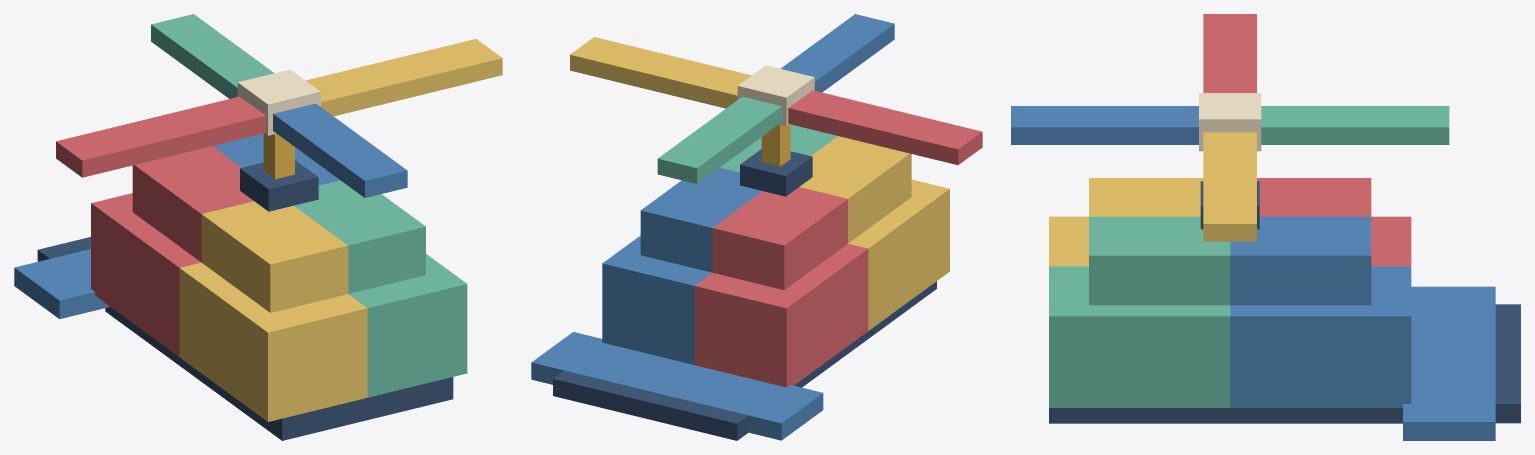
File: propeller_cap.glb
3 renders of one model, left to right at view 1: azimuth 30°, elevation 25°; view 2: azimuth 150°, elevation 25°; view 3: azimuth 270°, elevation 25°, orthographic. The views are drawn at different scales.
Parts seen in each view (by area): view 1: panel_back_left, dome_back_left, panel_back_right, panel_front_left, rotor_left, dome_back_right, dome_front_left, rotor_right, rotor_back, cap_platform, rotor_front, visor (+5 smaller); view 2: panel_front_left, visor, dome_front_left, panel_front_right, panel_back_left, rotor_left, dome_front_right, dome_back_left, rotor_right, visor_front, rotor_front, rotor_back (+5 smaller); view 3: panel_front_right, panel_back_right, visor, dome_front_right, dome_back_right, rotor_front, rotor_back, rotor_right, cap_platform, dome_front_left, dome_back_left, rotor_left (+4 smaller).
Boxes of the visible parts, left/top/right/bottom form: panel_back_left: left=179, top=262, right=367, bottom=421; dome_back_left: left=201, top=201, right=348, bottom=312; panel_back_right: left=348, top=254, right=467, bottom=397; panel_front_left: left=91, top=193, right=200, bottom=356; rotor_left: left=56, top=96, right=265, bottom=177; dome_back_right: left=294, top=180, right=425, bottom=293; dome_front_left: left=132, top=146, right=253, bottom=262; rotor_right: left=305, top=39, right=502, bottom=116; rotor_back: left=273, top=103, right=407, bottom=197; cap_platform: left=105, top=306, right=453, bottom=440; rotor_front: left=151, top=14, right=274, bottom=98; visor: left=14, top=249, right=109, bottom=319; panel_front_left: left=694, top=243, right=868, bottom=387; visor: left=531, top=332, right=823, bottom=440; dome_front_left: left=712, top=187, right=847, bottom=290; panel_front_right: left=602, top=235, right=711, bottom=364; panel_back_left: left=848, top=179, right=949, bottom=330; rotor_left: left=788, top=90, right=982, bottom=164; dome_front_right: left=640, top=167, right=762, bottom=272; dome_back_left: left=799, top=136, right=911, bottom=243; rotor_right: left=570, top=37, right=751, bottom=108; visor_front: left=553, top=370, right=748, bottom=440; rotor_front: left=657, top=96, right=781, bottom=183; rotor_back: left=780, top=14, right=894, bottom=92; panel_front_right: left=1230, top=266, right=1411, bottom=407; panel_back_right: left=1049, top=266, right=1230, bottom=407; visor: left=1403, top=286, right=1495, bottom=440; dome_front_right: left=1230, top=216, right=1371, bottom=305; dome_back_right: left=1089, top=216, right=1230, bottom=305; rotor_front: left=1261, top=106, right=1449, bottom=144; rotor_back: left=1011, top=106, right=1198, bottom=144; rotor_right: left=1203, top=132, right=1256, bottom=241; cap_platform: left=1049, top=408, right=1402, bottom=423; dome_front_left: left=1257, top=178, right=1371, bottom=216; dome_back_left: left=1089, top=178, right=1203, bottom=216; rotor_left: left=1203, top=14, right=1256, bottom=92.
Size of the model in its own units: 0.3688 by 0.225 by 0.3781.
